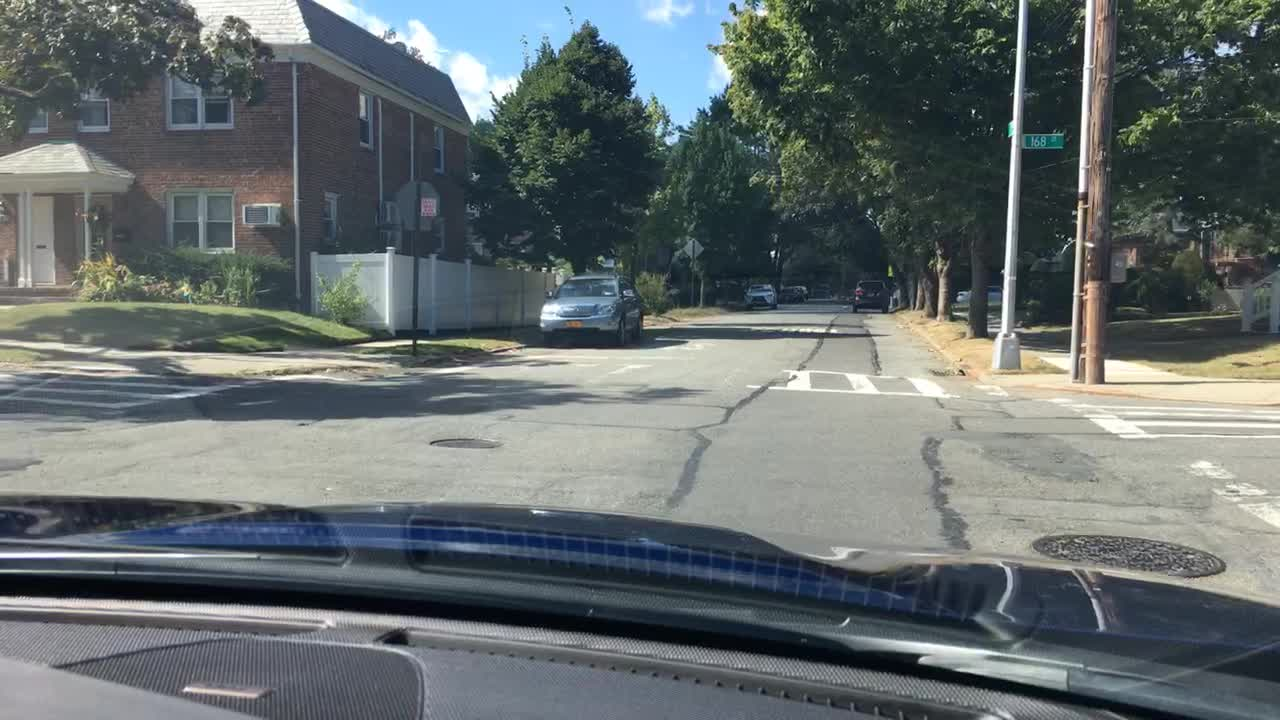car: (537, 269, 648, 344), (849, 276, 893, 315), (740, 282, 779, 311), (955, 282, 1002, 306), (777, 283, 812, 305), (1112, 304, 1148, 319), (806, 280, 834, 298), (832, 285, 858, 304)
traffic sign: (1018, 130, 1064, 148), (1108, 245, 1128, 286), (682, 236, 706, 260), (418, 196, 440, 218), (1003, 115, 1016, 139)
